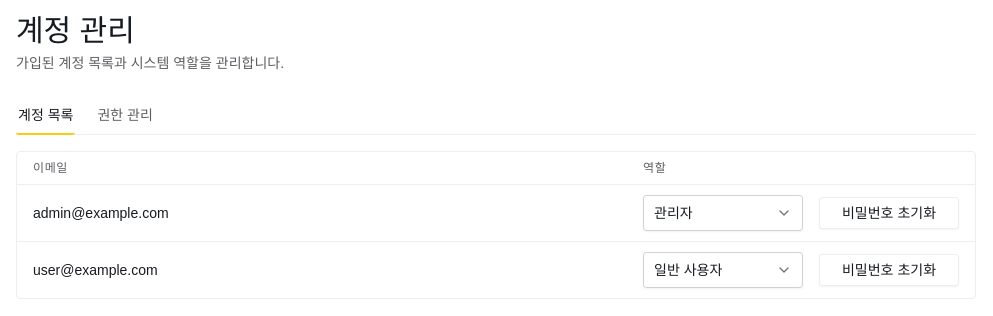
AccountsPage permission matrix tab › renders every catalog permission column even when no role currently holds it
What coordinates should you click on to do the following:
click the tab with test id "accounts-tab-permissions"
I would click on:
 (125, 120)
Its box is top-left (95, 105), bottom-right (155, 135).
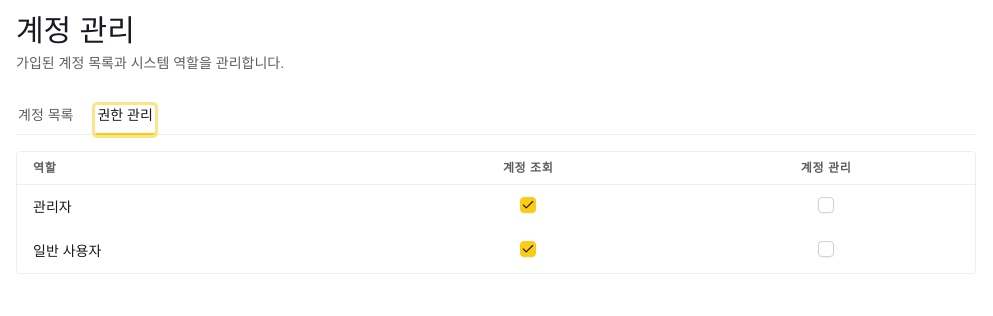
expect the checkbox with test id "role-permission-admin-user:read" is shown: met, box top-left (520, 197), bottom-right (536, 213)
expect the checkbox with test id "role-permission-admin-user:manage" is shown: met, box top-left (818, 197), bottom-right (834, 213)
